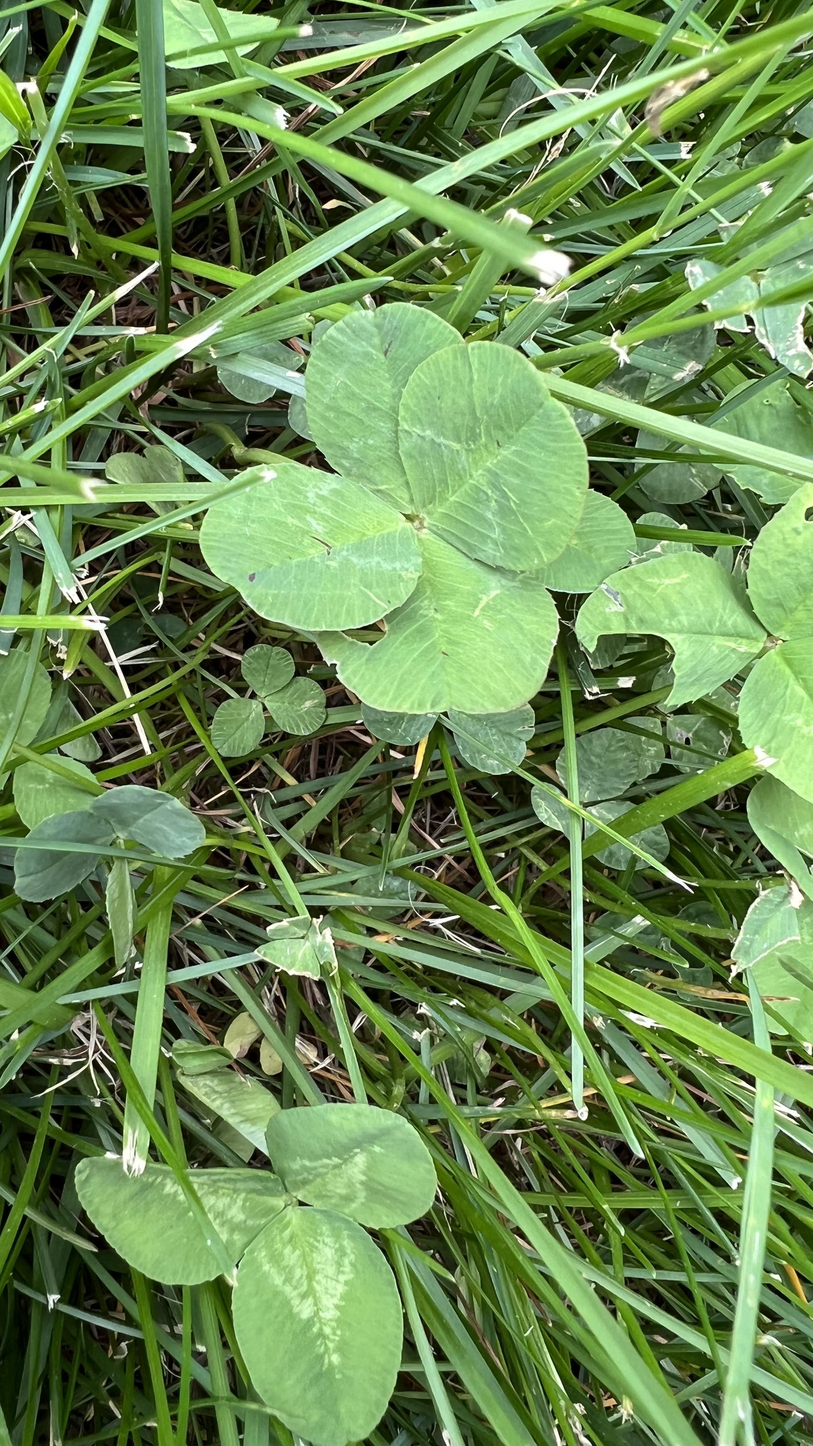5-Leaf-Clovers: (203, 305, 633, 723)
